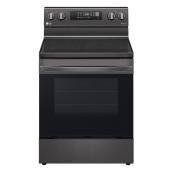stove: (36, 4, 145, 166)
